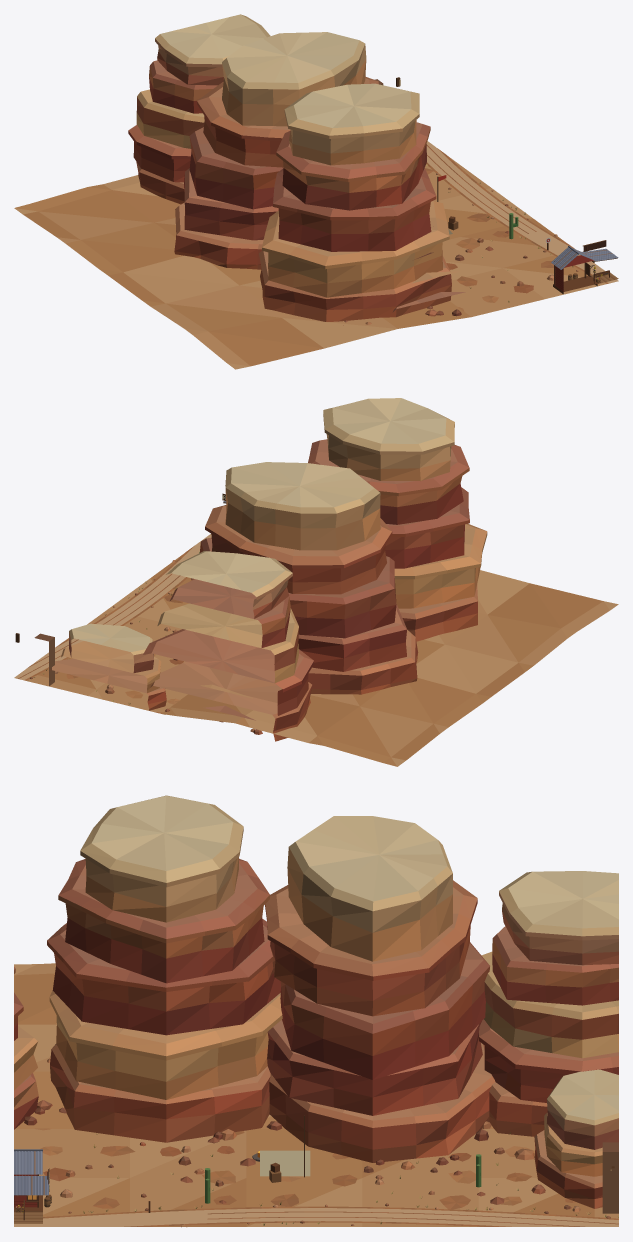
3 renders of one model, top to bottom at view 1: azimuth 30°, elevation 25°; view 2: azimuth 150°, elevation 25°; view 3: azimuth 270°, elevation 25°, orthographic. The views are drawn at different scales.
Visible parts, largest first — view 1: baked; view 2: baked; view 3: baked.
Part boxes in pixels (box(x1,y1,x2,y2)): baked: box(14, 14, 618, 369); baked: box(14, 398, 618, 766); baked: box(14, 795, 618, 1227).
Size of the model in its own units: 62.5 by 29.02 by 62.5.
